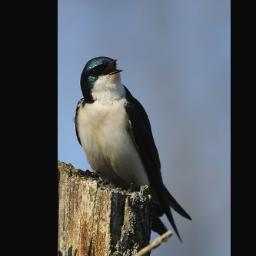Swallow: (75, 56, 193, 245)
